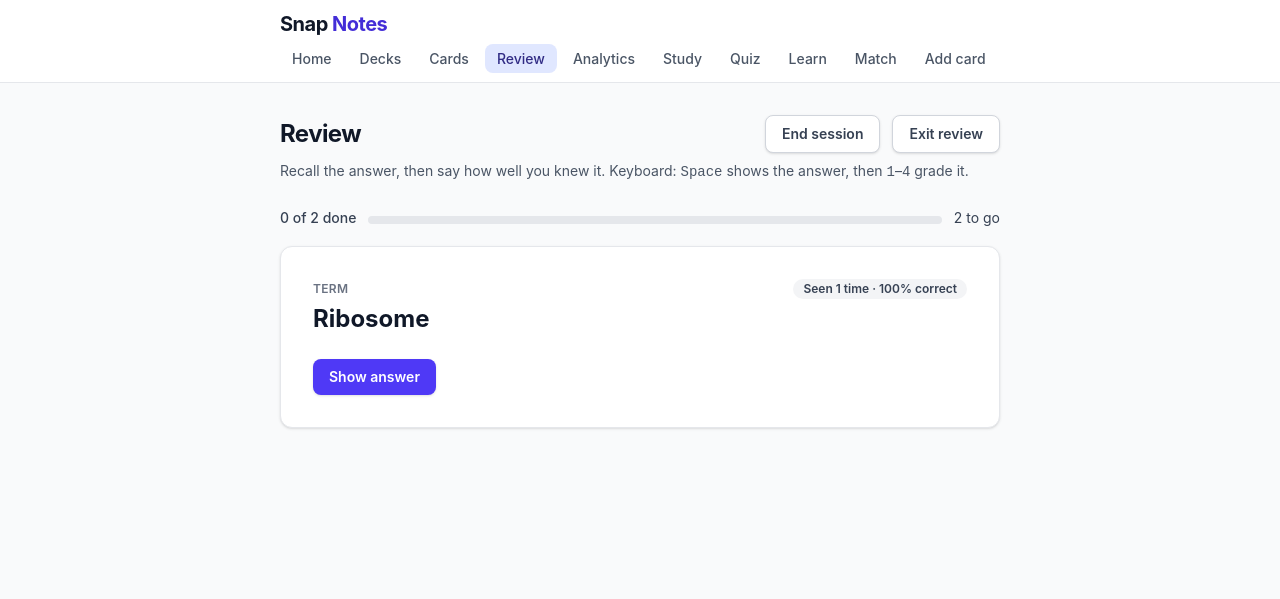
it: a review session › shows due cards first, and grades them
Expected: the heading "Ribosome" is shown, [313,304,430,333]
Expected: the text "0 of 2 done" is shown, [280,208,356,228]
Click the button "Show answer": (374, 377) [313,359,436,395]
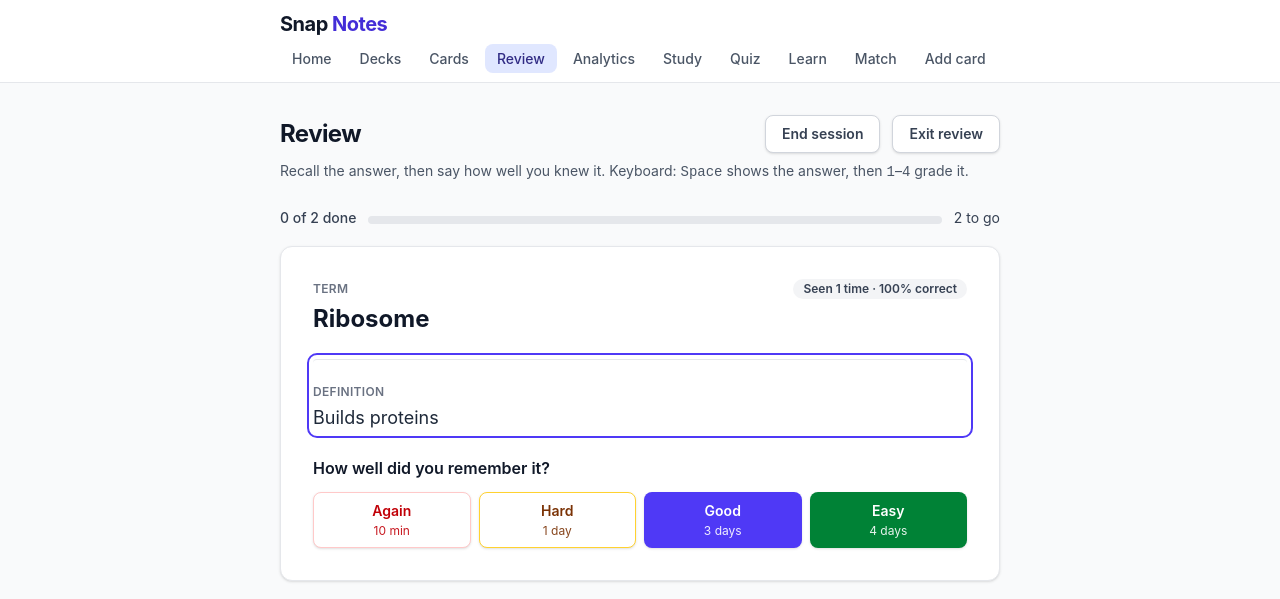
Result: the text "Builds proteins" is shown at [313,407,439,428]
Click the button "Good 3 days": (723, 520) [644,492,802,548]
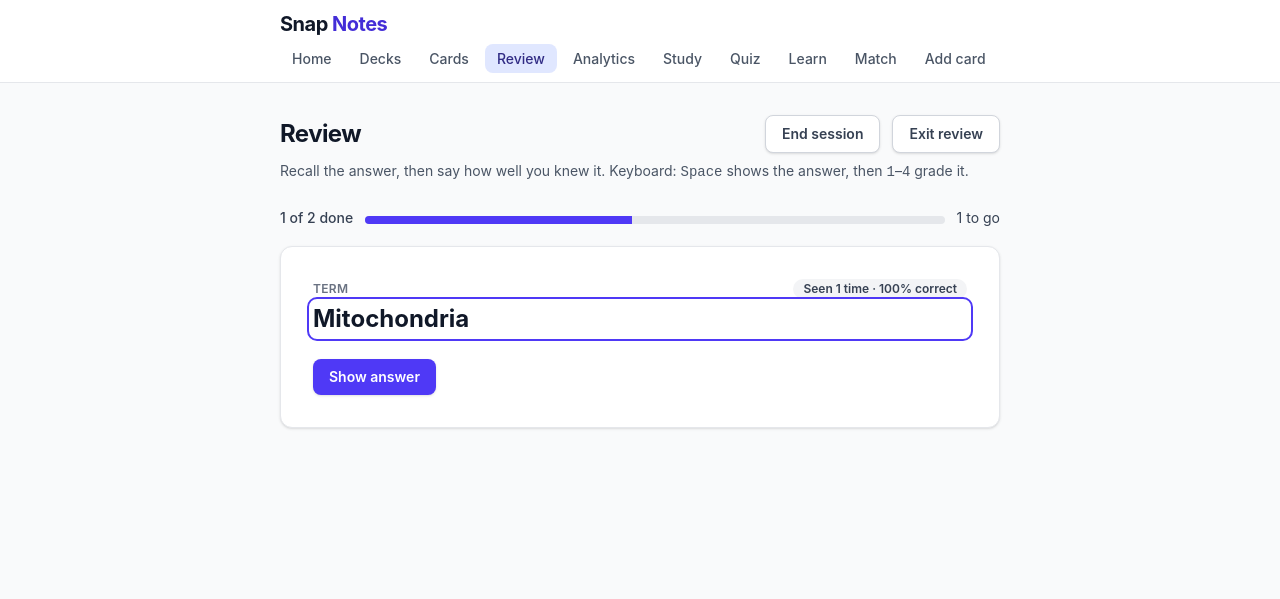
Result: the heading "Mitochondria" is shown at [313,304,469,333]
Result: the text "1 of 2 done" is shown at [280,208,353,228]
